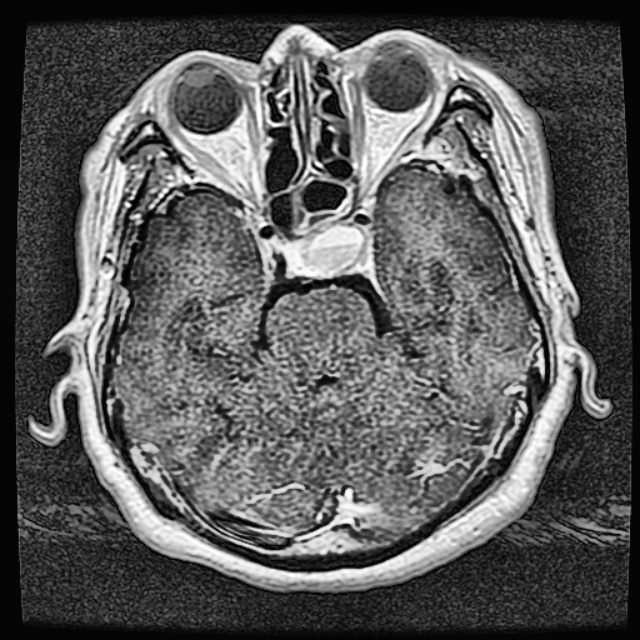Pituitary: (287, 223, 374, 275)
